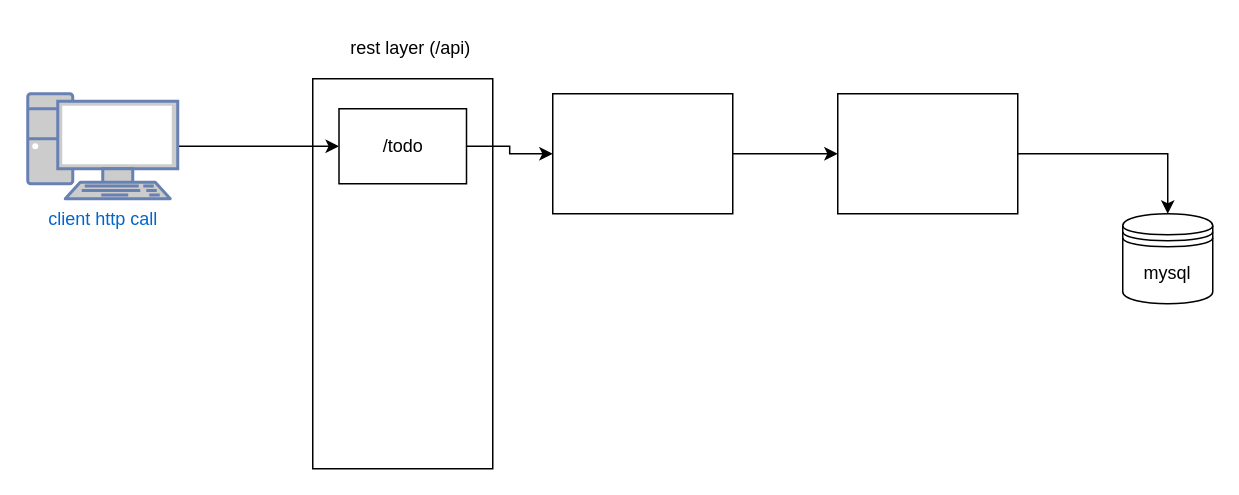
This 1239x495 diagram has some shape labels left out. The shapes that lost their labels are listed below. From the top down, each one's centre as x and y in pixels, then its label:
the point at 642,153: Core TodoItem
the point at 927,153: tododb
